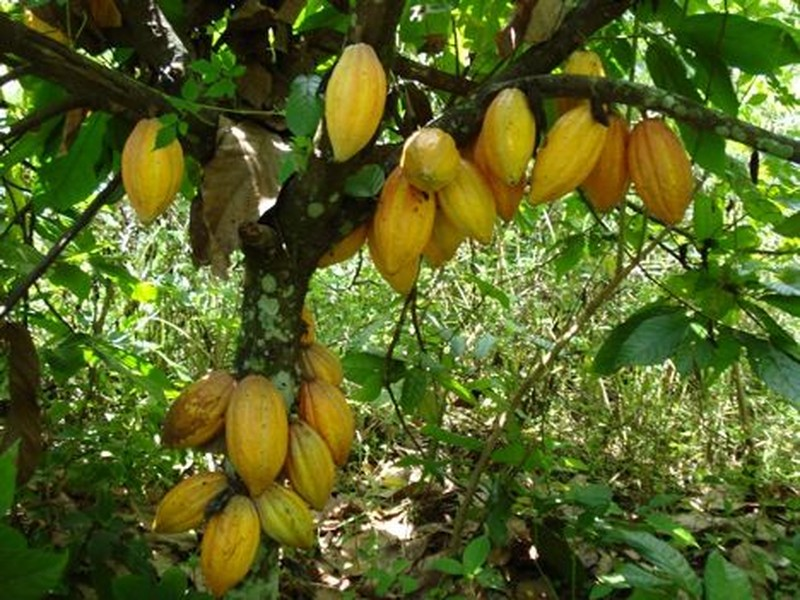Cacaopod: (221, 373, 287, 495), (322, 44, 387, 161)
